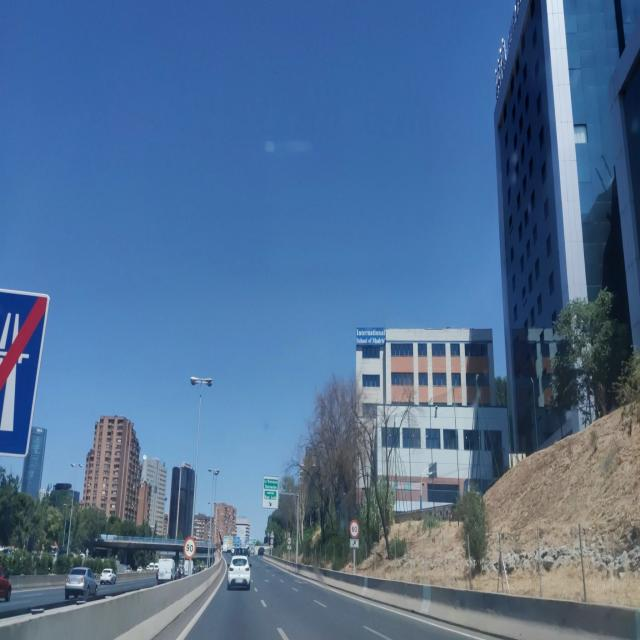car: (64, 566, 98, 600), (227, 555, 251, 591), (0, 556, 12, 602), (156, 558, 174, 583), (100, 567, 117, 585)
